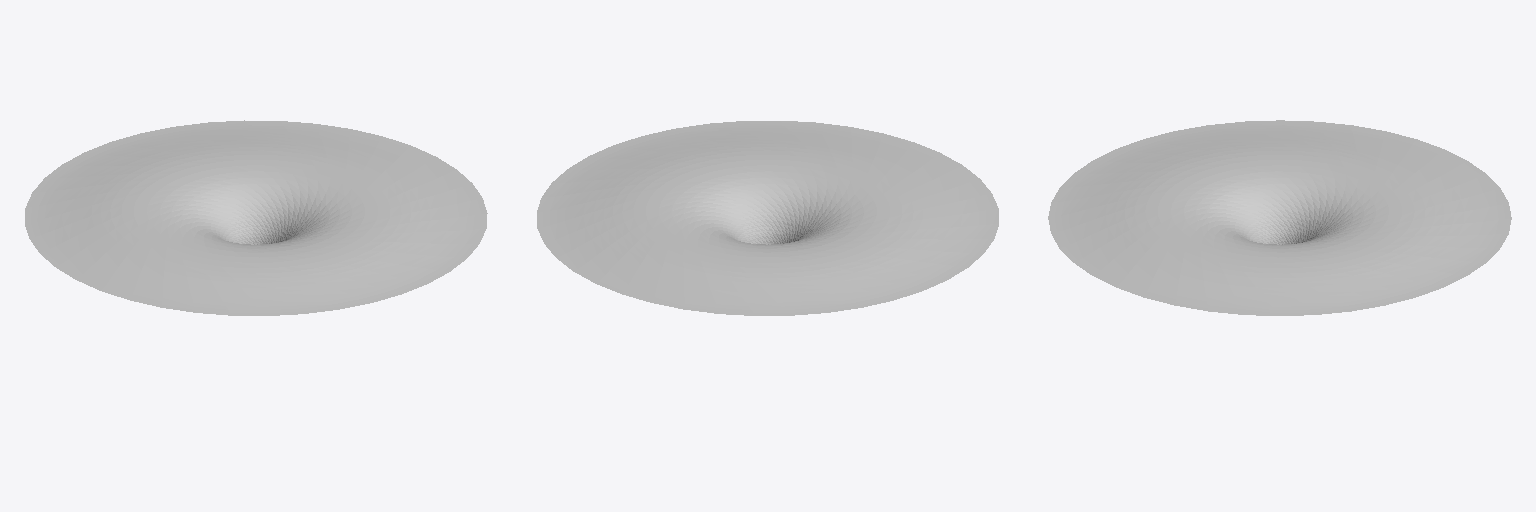
File: EyeStorm3.obj
The picture shows the model from 3 angles: view 1: azimuth 30°, elevation 25°; view 2: azimuth 150°, elevation 25°; view 3: azimuth 270°, elevation 25°; orthographic projection.
Visible parts, largest first — view 1: Eye_of_Storm:pCylinder1; view 2: Eye_of_Storm:pCylinder1; view 3: Eye_of_Storm:pCylinder1.
Boxes of the visible parts, box(x1,y1,x2,y2) form: Eye_of_Storm:pCylinder1: box(25, 120, 487, 315); Eye_of_Storm:pCylinder1: box(537, 121, 998, 315); Eye_of_Storm:pCylinder1: box(1048, 120, 1511, 315).
Size of the model in its own units: 27.06 by 5.76 by 27.06.